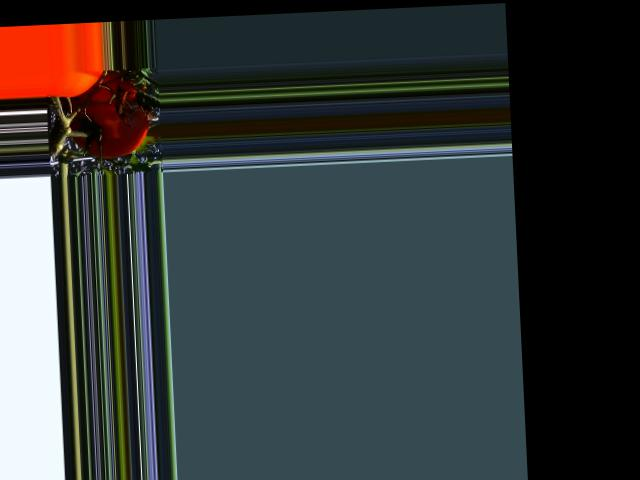tomato: (67, 69, 153, 160)
